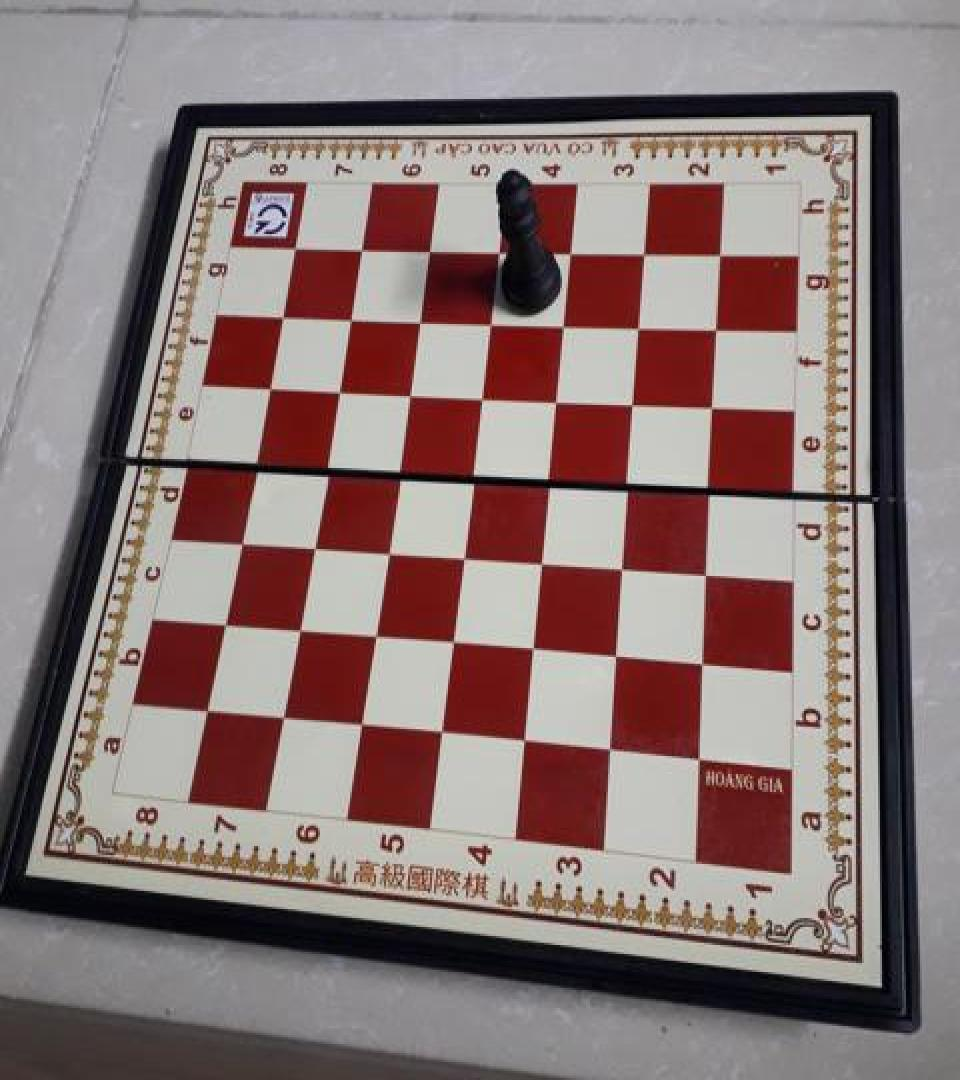xcorner: (345, 706, 373, 738), (427, 714, 455, 746), (510, 723, 538, 755), (596, 731, 624, 763), (685, 740, 713, 772), (206, 604, 234, 636), (359, 616, 387, 648), (438, 623, 466, 655), (519, 630, 547, 662), (222, 522, 250, 554), (296, 526, 324, 558), (371, 532, 399, 564), (528, 542, 556, 574), (238, 443, 266, 475), (383, 451, 411, 483), (536, 460, 564, 492), (616, 463, 644, 495), (698, 468, 726, 500), (252, 369, 280, 401), (323, 372, 351, 404), (469, 378, 497, 410), (544, 381, 572, 413), (702, 387, 730, 419), (266, 298, 294, 330), (335, 300, 363, 332), (406, 301, 434, 333), (552, 306, 580, 338), (628, 308, 656, 340), (706, 310, 734, 342), (280, 229, 308, 261), (559, 234, 587, 266), (633, 235, 661, 267), (709, 236, 737, 268), (189, 691, 217, 722), (266, 699, 294, 730), (281, 611, 309, 642), (603, 638, 631, 669), (690, 645, 718, 676), (449, 538, 477, 569), (610, 548, 638, 579), (694, 555, 722, 586), (310, 448, 338, 479), (459, 456, 487, 487), (395, 375, 423, 406), (622, 384, 650, 415), (478, 304, 506, 335), (347, 231, 375, 262), (416, 232, 444, 263), (487, 233, 515, 264)
